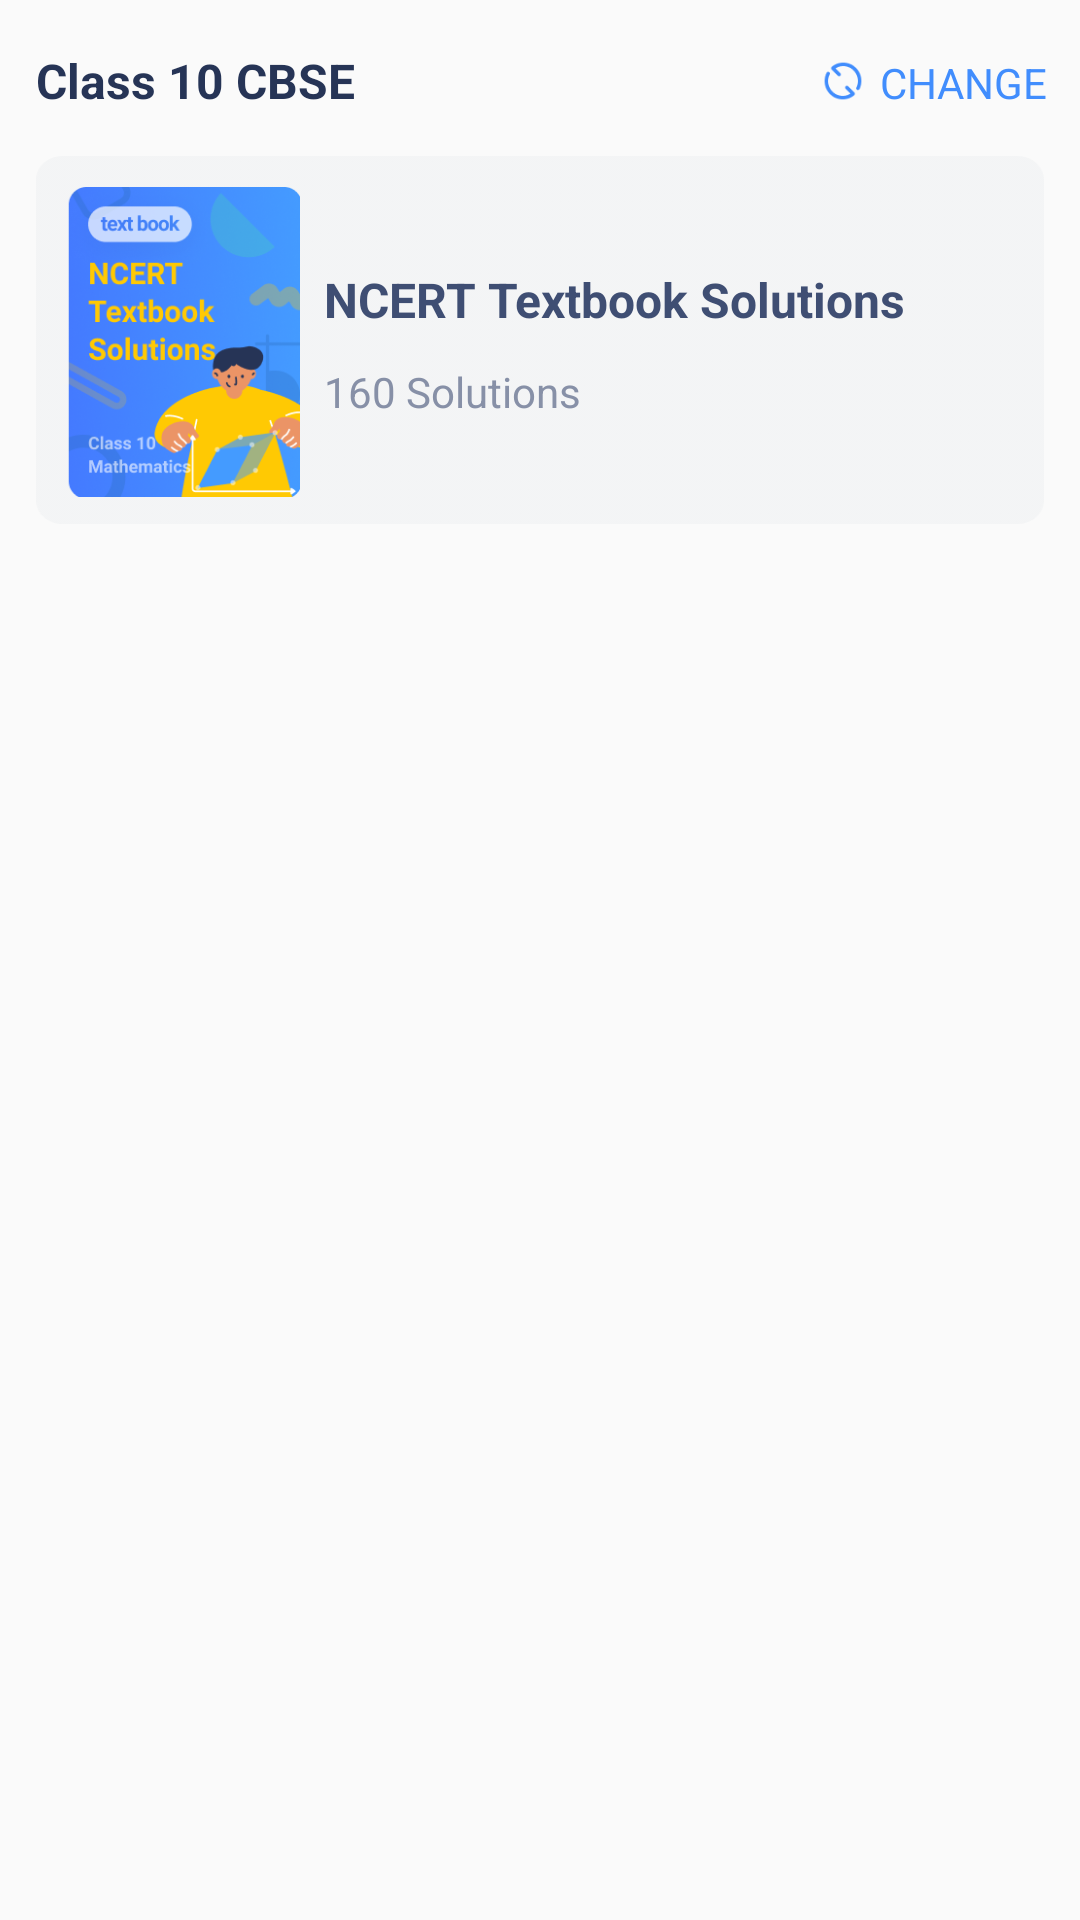

Icons on this 1080px x 1920px Android screen, each with its box as [x1=x1, y1=y1, x2=x2, y2=y2]:
refresh: [x1=824, y1=62, x2=862, y2=100]
